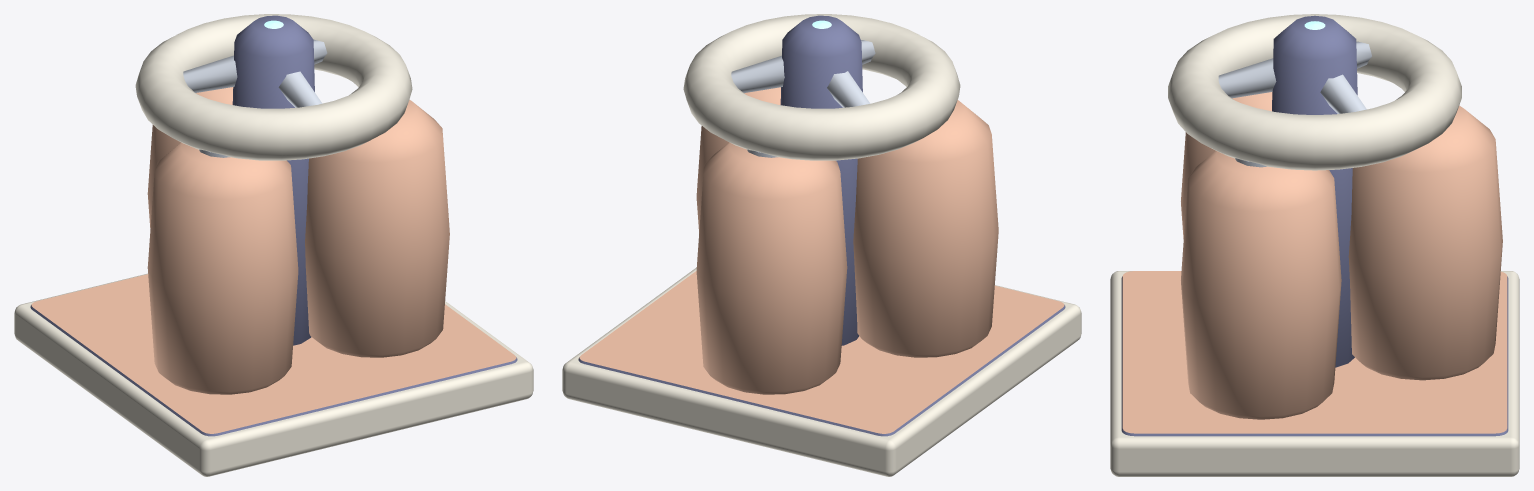
File: R4X_ChargeRegenerator.fbx
The picture shows the model from 3 angles, left to right: view 1: azimuth 30°, elevation 25°; view 2: azimuth 150°, elevation 25°; view 3: azimuth 270°, elevation 25°; orthographic projection. The views are drawn at different scales.
Visible parts, largest first — view 1: R4X_ChargeRegenerator_Body; view 2: R4X_ChargeRegenerator_Body; view 3: R4X_ChargeRegenerator_Body.
Boxes of the visible parts, <box> form: R4X_ChargeRegenerator_Body: <box>14,14,533,476</box>; R4X_ChargeRegenerator_Body: <box>562,14,1081,476</box>; R4X_ChargeRegenerator_Body: <box>1110,14,1519,476</box>.
Size of the model in its own units: 0.514 by 0.515 by 0.514.
